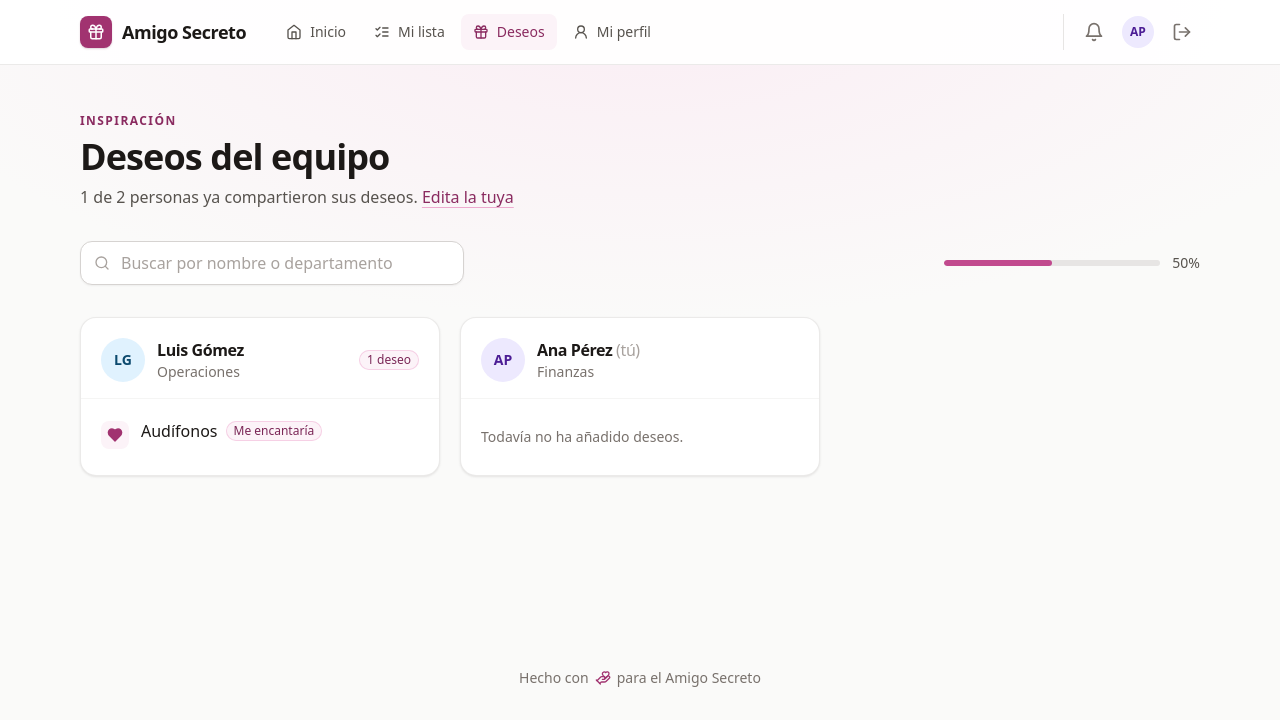
Test: WishesPage › filtra por nombre o departamento
In the search field named "Buscar persona": (272, 263) [80,241,464,285], type "finanzas"
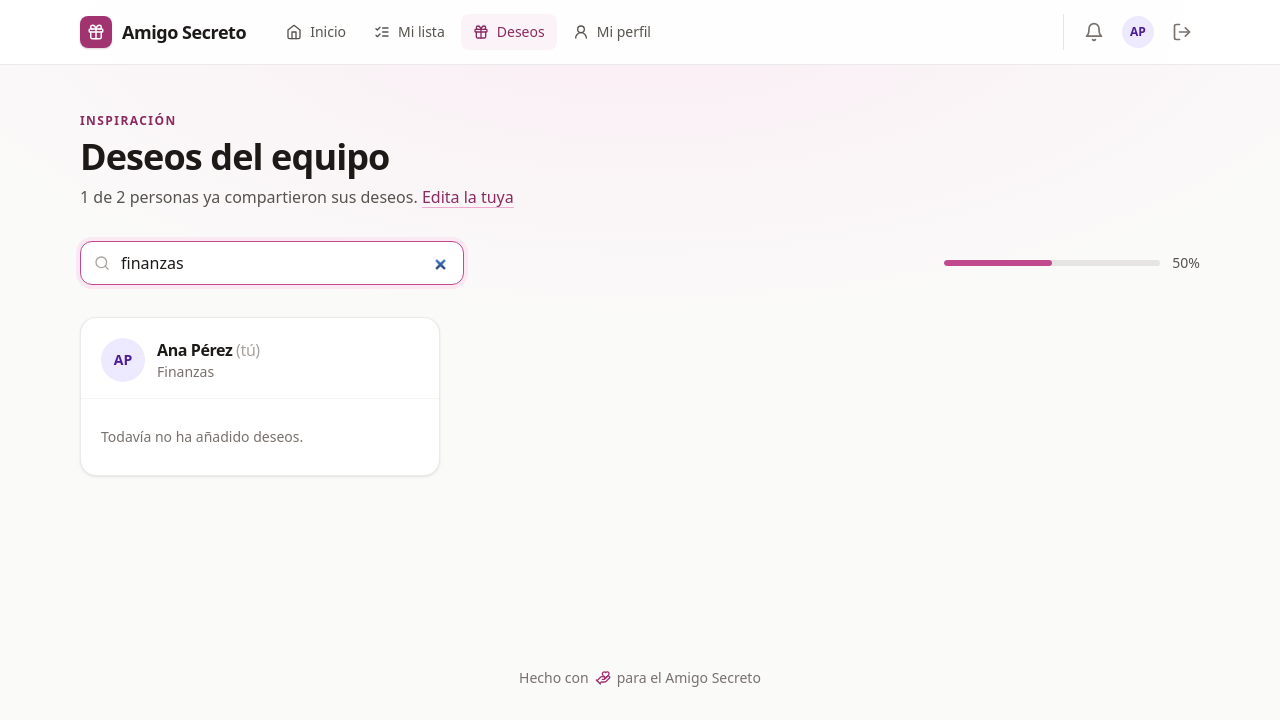
Now the headings read "Ana Pérez (tú)", in this order, box [157,339,260,361]
